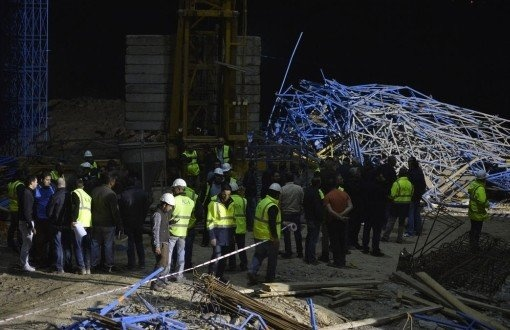none: (22, 174, 38, 192), (219, 184, 232, 203), (102, 171, 116, 187), (40, 170, 52, 188), (54, 177, 67, 189), (73, 178, 84, 190)
white: (158, 192, 176, 211), (171, 177, 187, 195), (267, 182, 282, 200), (473, 168, 487, 184), (212, 167, 223, 183), (221, 162, 231, 177), (83, 149, 93, 161)
